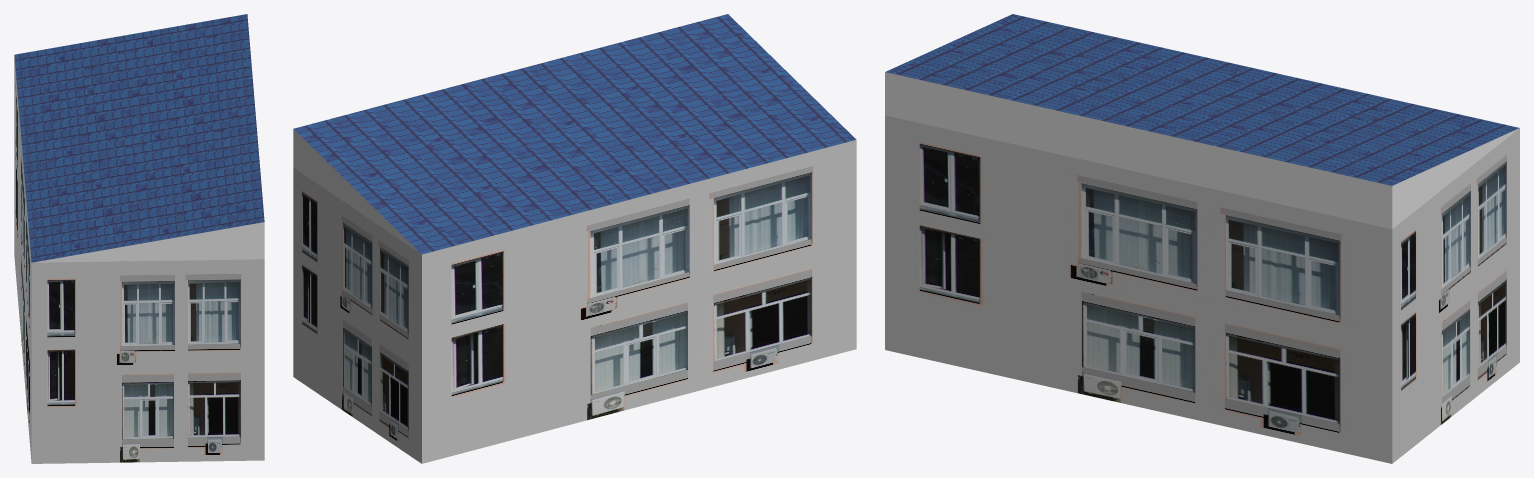
3 renders of one model, left to right at view 1: azimuth 30°, elevation 25°; view 2: azimuth 150°, elevation 25°; view 3: azimuth 270°, elevation 25°, orthographic. The views are drawn at different scales.
Parts seen in each view (by area): view 1: CityEngineMaterial_9_m, CityEngineMaterial_10_m, CityEngineMaterial_3_m; view 2: CityEngineMaterial_9_m, CityEngineMaterial_10_m, CityEngineMaterial_3_m; view 3: CityEngineMaterial_9_m, CityEngineMaterial_10_m, CityEngineMaterial_3_m.
Boxes of the visible parts, left/top/right/bottom form: CityEngineMaterial_9_m: left=14, top=56, right=264, bottom=463; CityEngineMaterial_10_m: left=14, top=14, right=264, bottom=262; CityEngineMaterial_3_m: left=33, top=222, right=264, bottom=262; CityEngineMaterial_9_m: left=293, top=140, right=856, bottom=463; CityEngineMaterial_10_m: left=293, top=14, right=856, bottom=254; CityEngineMaterial_3_m: left=293, top=129, right=421, bottom=254; CityEngineMaterial_9_m: left=885, top=115, right=1519, bottom=463; CityEngineMaterial_10_m: left=886, top=14, right=1518, bottom=185; CityEngineMaterial_3_m: left=885, top=72, right=1518, bottom=229.
Bounding box in the file's own units: 19.66 × 11.83 × 24.48.
